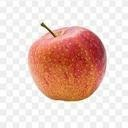apple: (27, 20, 109, 102)
